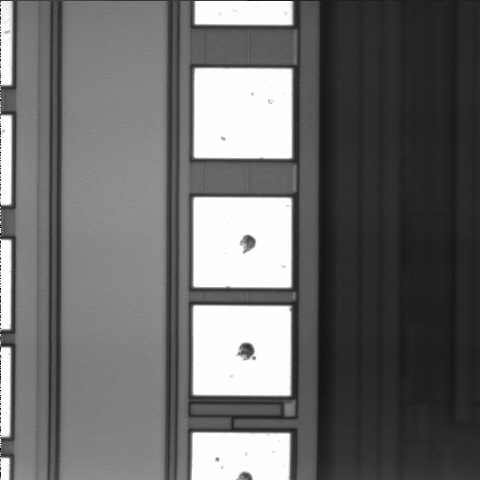pad: (193, 197, 292, 288), (194, 68, 292, 158), (193, 306, 291, 396)
